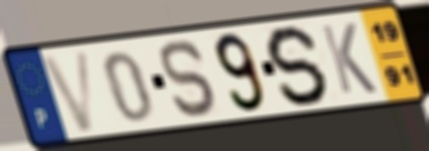0: (100, 48, 159, 123)
9: (211, 31, 268, 114)
K: (317, 21, 380, 97)
S: (264, 23, 332, 107), (158, 37, 222, 119)
V: (37, 46, 98, 135)
